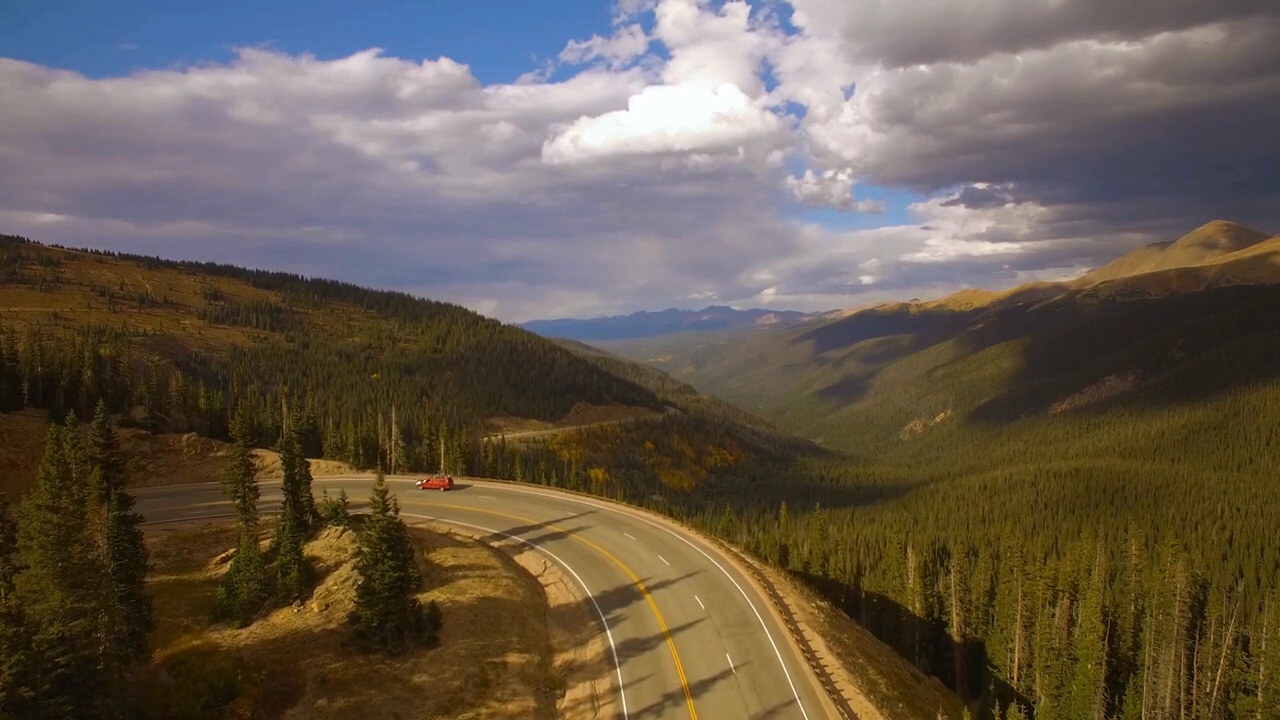araba: (414, 474, 454, 493)
